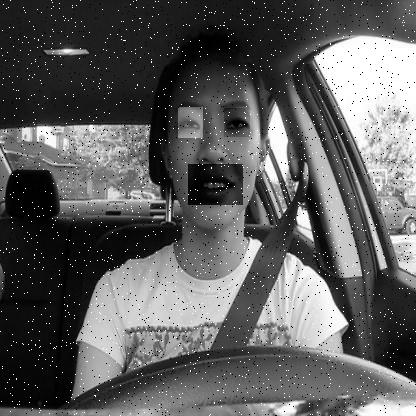seatbelt: (143, 14, 289, 348)
